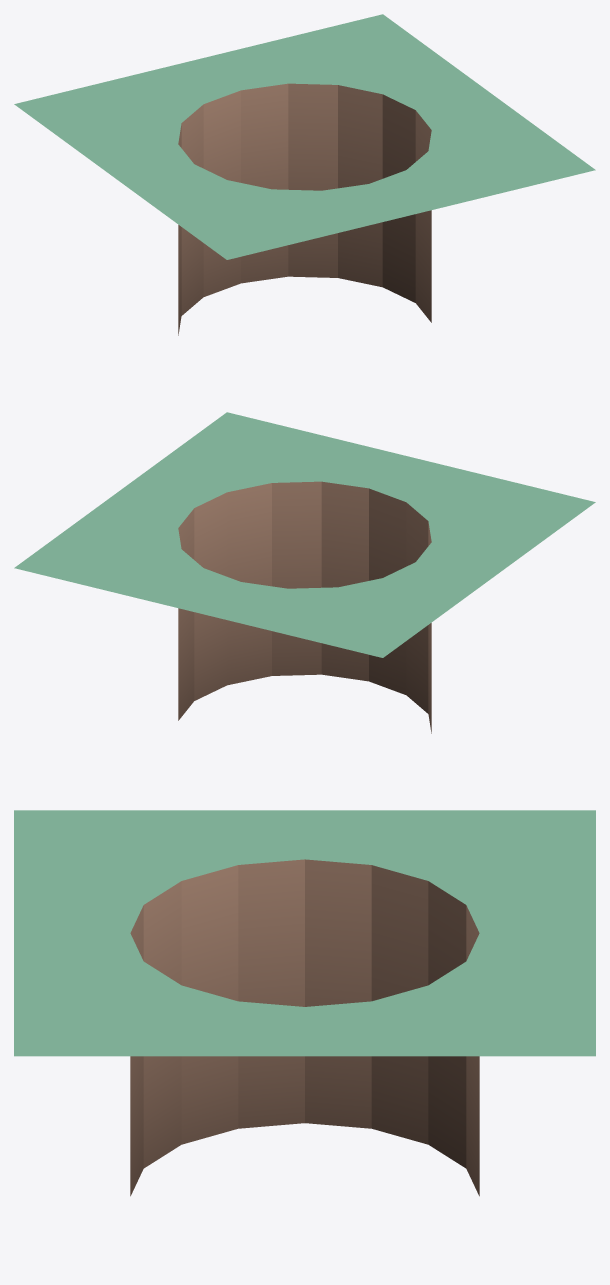
Rendered from hole.glb.
3 views of the same model, one above another, from view 1: azimuth 30°, elevation 25°; view 2: azimuth 150°, elevation 25°; view 3: azimuth 270°, elevation 25° (orthographic). The views are drawn at different scales.
Parts seen in each view (by area): view 1: hole; view 2: hole; view 3: hole.
Part boxes in pixels (x1,y1,x2,y2): hole: (14, 14, 595, 335); hole: (14, 412, 595, 733); hole: (14, 810, 595, 1196).
Size of the model in its own units: 1 by 0.5 by 1.
